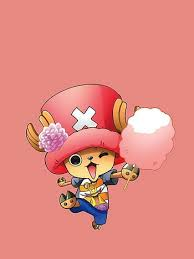chopper: (24, 83, 133, 184)
